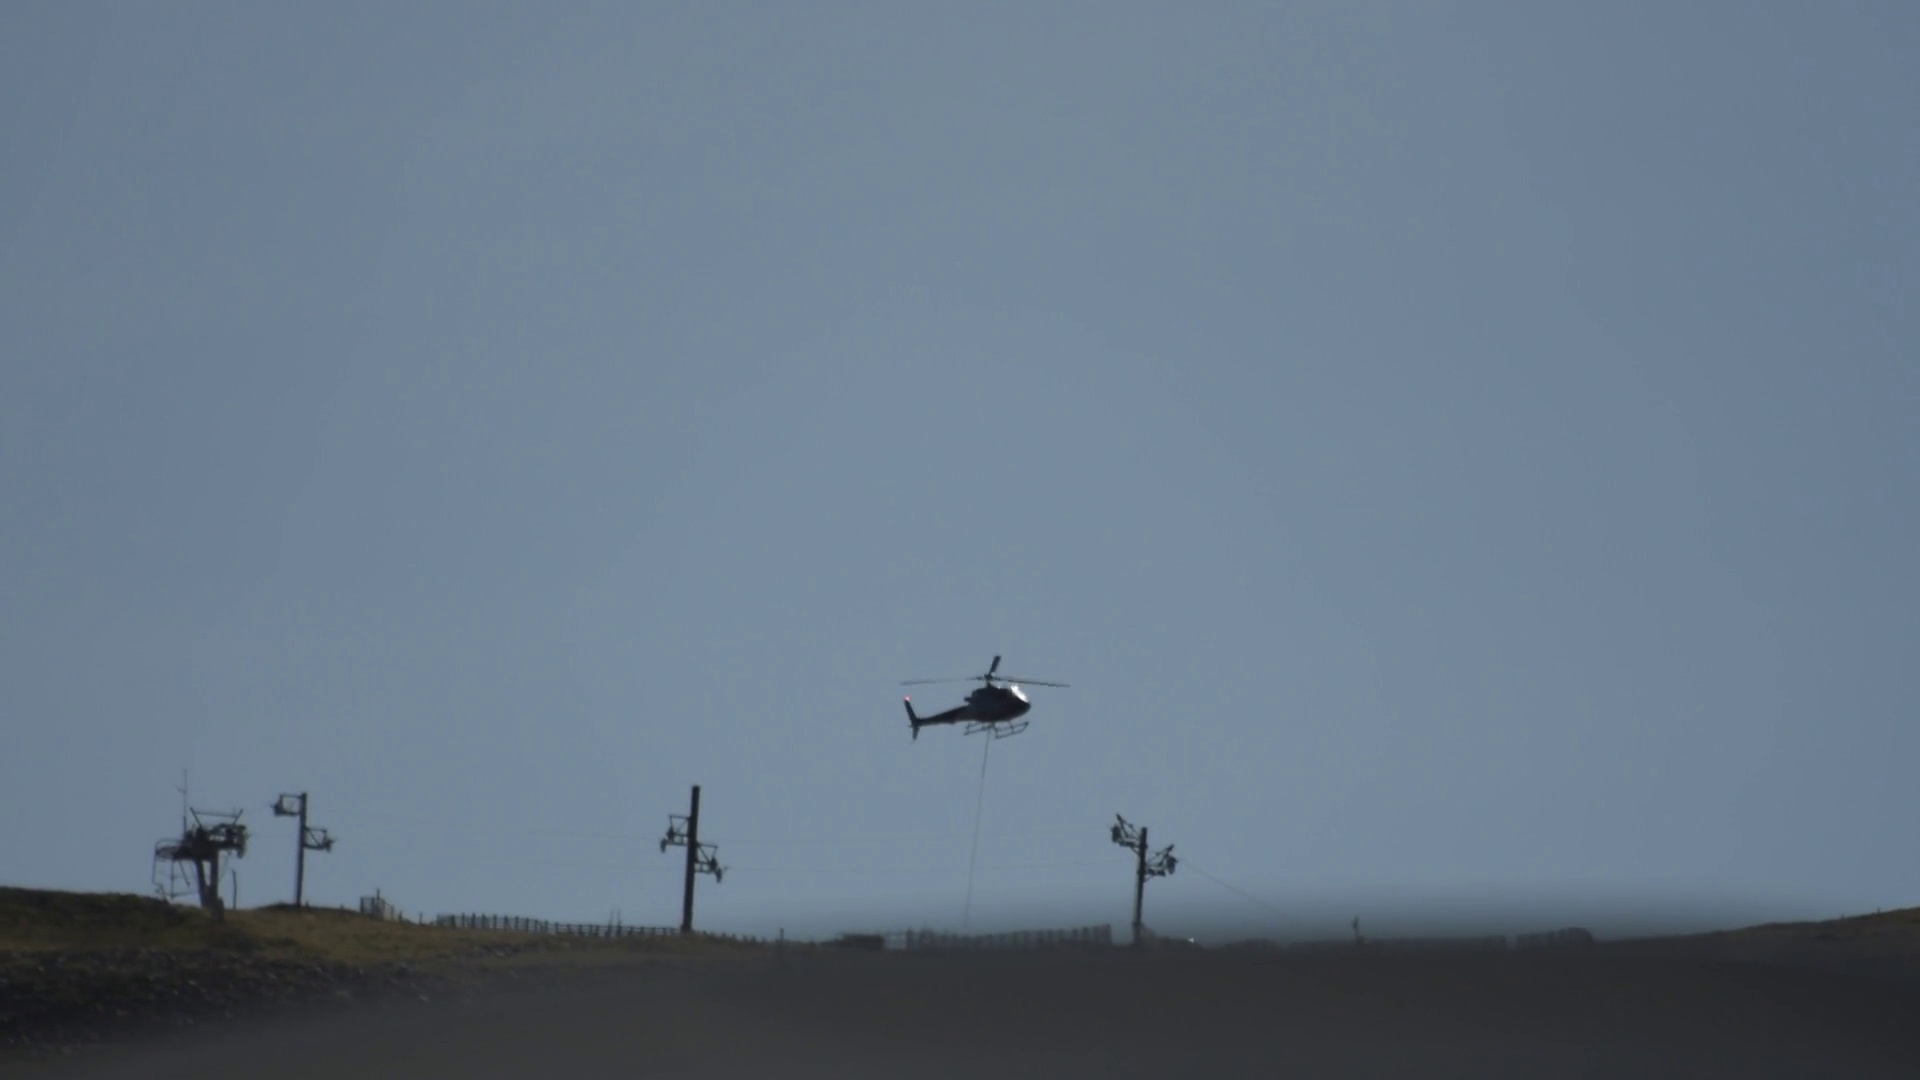heli: (897, 654, 1068, 741)
